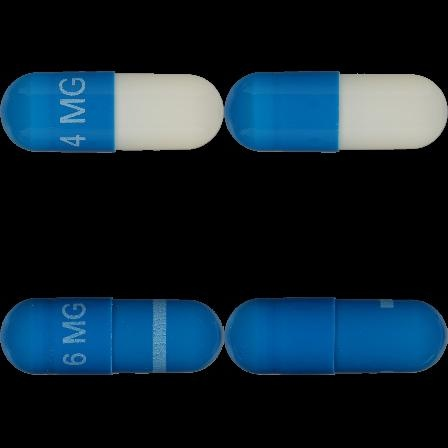10144-604: (0, 0, 224, 224)
